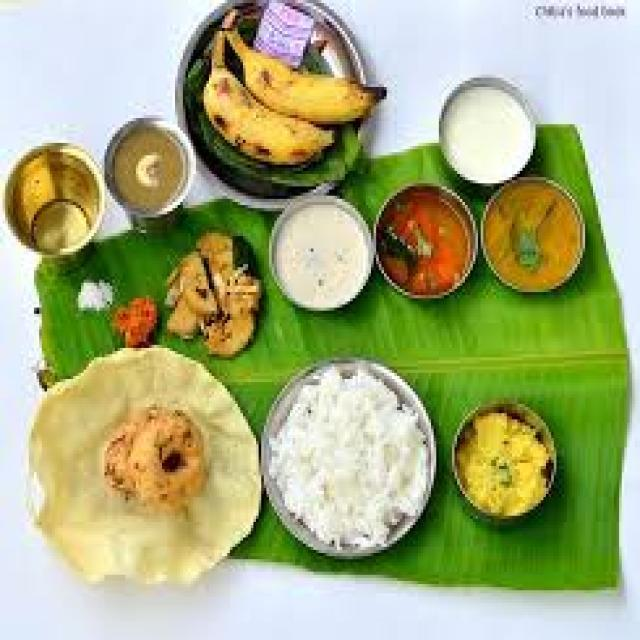dal: (263, 188, 379, 327)
papad: (199, 30, 382, 160)
rice: (260, 370, 438, 550)
sambar-rasam: (265, 189, 379, 317), (372, 183, 478, 298)
sweet: (452, 405, 560, 522)
